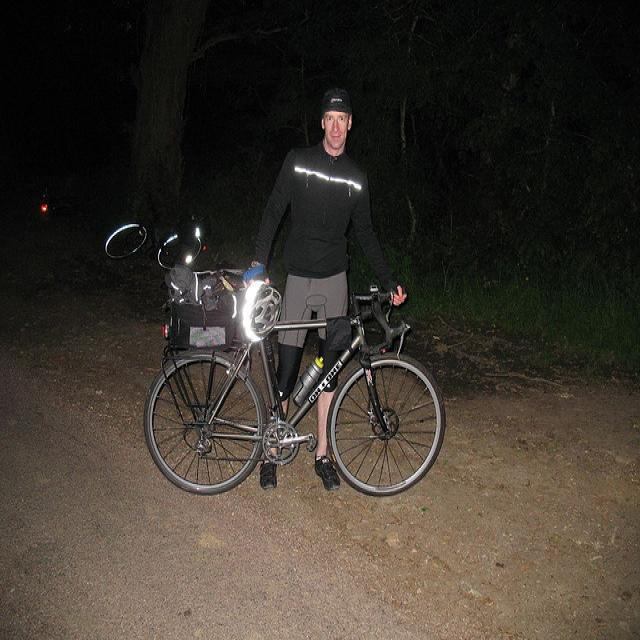Bicycle: (137, 276, 488, 523)
People: (253, 70, 398, 454)
